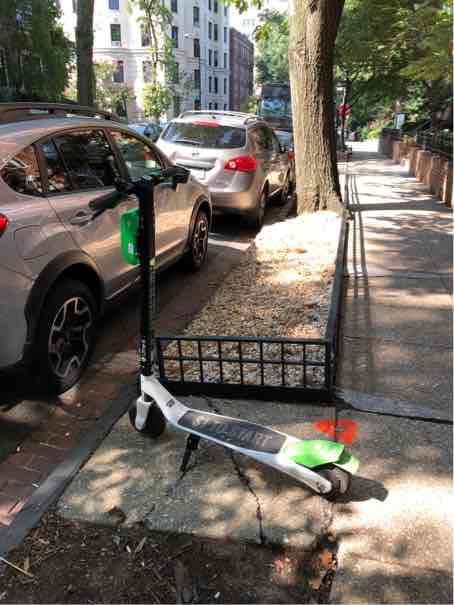scooter: (67, 153, 359, 499)
